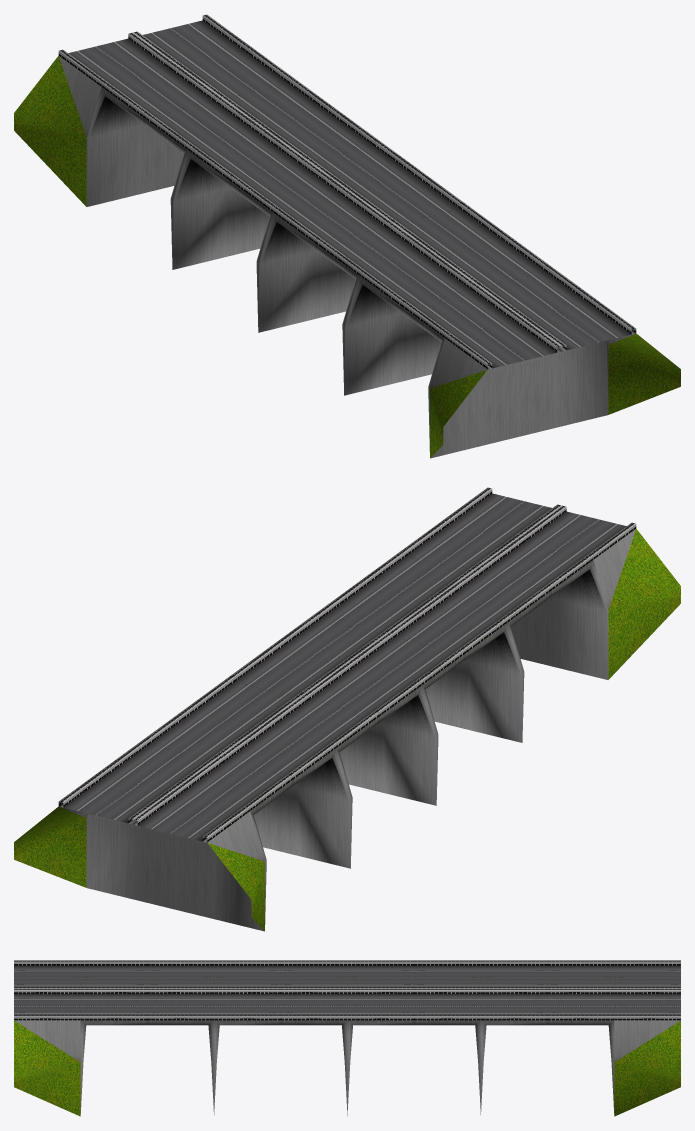
Rendered from brug_snelweg_1c_met_talud.fbx.
The picture shows the model from 3 angles, top to bottom: view 1: azimuth 30°, elevation 25°; view 2: azimuth 150°, elevation 25°; view 3: azimuth 270°, elevation 25°; orthographic projection. The views are drawn at different scales.
Visible parts, largest first — view 1: brug_snelweg_1c_met_talud; view 2: brug_snelweg_1c_met_talud; view 3: brug_snelweg_1c_met_talud.
Part boxes in pixels (left/top/right/bottom): brug_snelweg_1c_met_talud: left=14, top=14, right=680, bottom=458; brug_snelweg_1c_met_talud: left=14, top=487, right=680, bottom=931; brug_snelweg_1c_met_talud: left=14, top=960, right=680, bottom=1116.
Bounding box in the file's own units: 3200 × 1563 × 10003.
